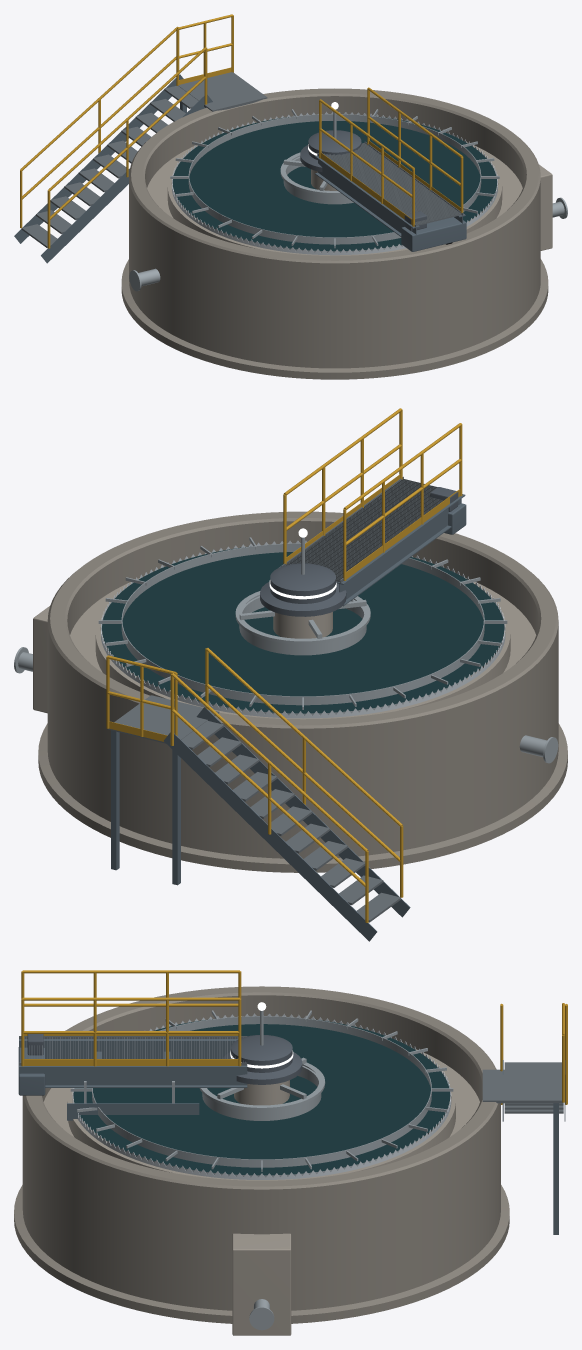
File: clarifier.glb
The picture shows the model from 3 angles, top to bottom: view 1: azimuth 30°, elevation 25°; view 2: azimuth 150°, elevation 25°; view 3: azimuth 270°, elevation 25°; orthographic projection. The views are drawn at different scales.
Parts seen in each view (by area): view 1: BODY_basin, WATER_surface, ROTOR_bridge, BODY_launder, BODY_stair, stair_rails, BODY_feedwell, BODY_outlet_box, pipes; view 2: BODY_basin, WATER_surface, ROTOR_bridge, BODY_stair, BODY_launder, stair_rails, BODY_feedwell, BODY_outlet_box, pipes; view 3: BODY_basin, WATER_surface, ROTOR_bridge, BODY_launder, BODY_outlet_box, BODY_stair, BODY_feedwell, stair_rails, pipes.
Part boxes in pixels (box(x1,y1,x2,y2)): BODY_basin: box(121, 88, 548, 379); WATER_surface: box(173, 116, 496, 251); ROTOR_bridge: box(300, 87, 466, 251); BODY_launder: box(147, 109, 522, 255); BODY_stair: box(14, 72, 267, 263); stair_rails: box(20, 14, 233, 248); BODY_feedwell: box(280, 152, 353, 204); BODY_outlet_box: box(539, 164, 552, 250); pipes: box(129, 197, 567, 291); BODY_basin: box(38, 511, 567, 872); WATER_surface: box(102, 546, 504, 713); ROTOR_bridge: box(260, 408, 466, 616); BODY_stair: box(108, 695, 410, 941); BODY_launder: box(70, 537, 536, 719); stair_rails: box(106, 648, 403, 922); BODY_feedwell: box(235, 591, 370, 655); BODY_outlet_box: box(33, 606, 49, 713); pipes: box(14, 647, 558, 763); BODY_basin: box(14, 986, 509, 1323); WATER_surface: box(73, 1019, 450, 1175); ROTOR_bridge: box(18, 970, 302, 1120); BODY_launder: box(43, 1010, 479, 1180); BODY_outlet_box: box(232, 1233, 291, 1335); BODY_stair: box(482, 1060, 565, 1234); BODY_feedwell: box(199, 1057, 325, 1120); stair_rails: box(500, 1003, 567, 1104); pipes: box(249, 1299, 274, 1330).
Size of the model in its own units: 7.8 by 3.63 by 7.53.
